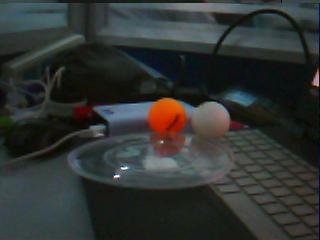oball: (148, 98, 185, 130)
